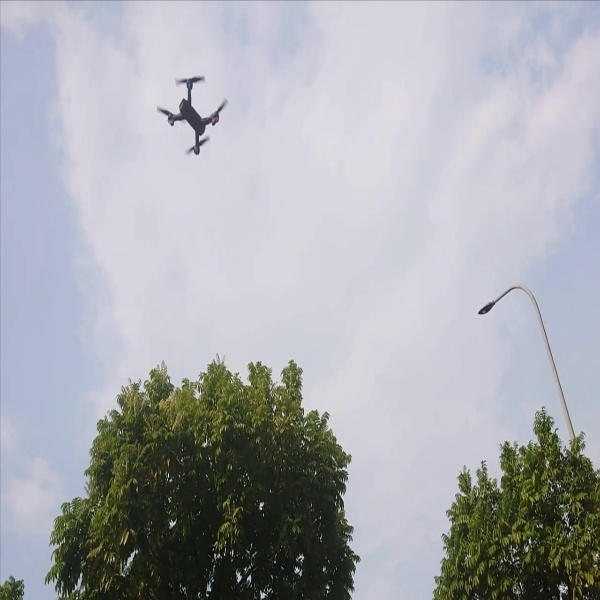drone: (149, 70, 231, 163)
